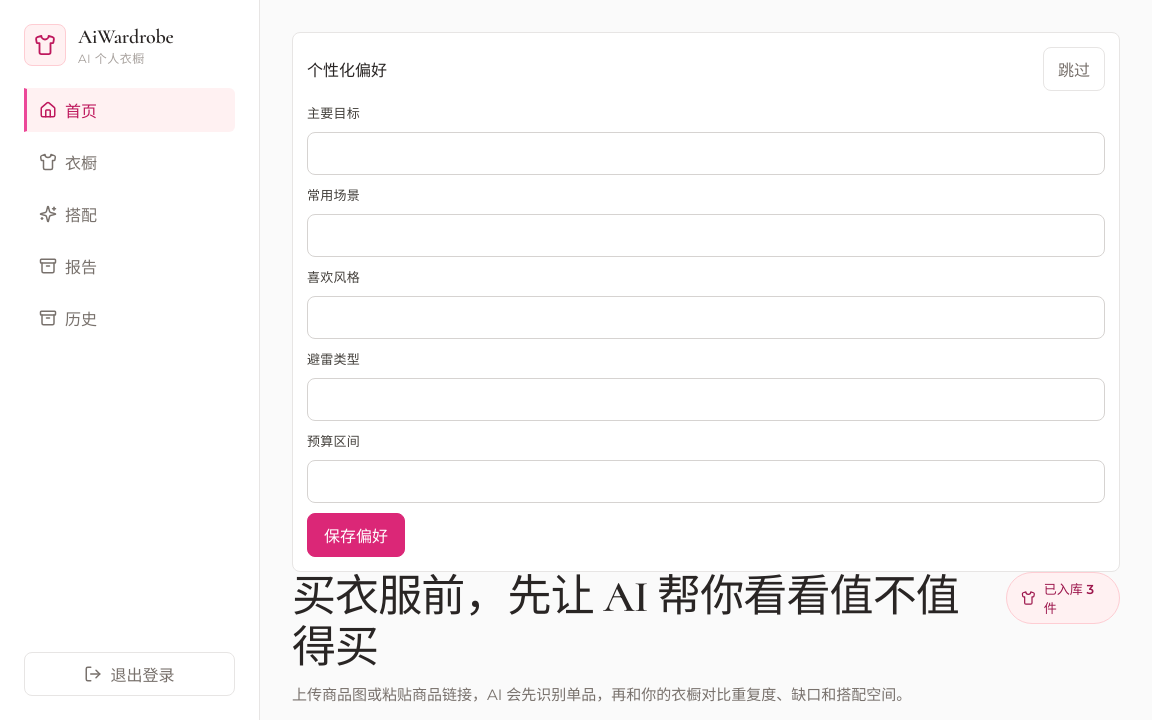
AiWardrobe app › shows a skippable preference panel after three ready garments and saves it
This screenshot has width=1152, height=720.
Expected: the text "个性化偏好" is shown, [307,57,387,81]
In the field labelled "主要目标": (706, 154) [307,132,1105,175], type "少买闲置"
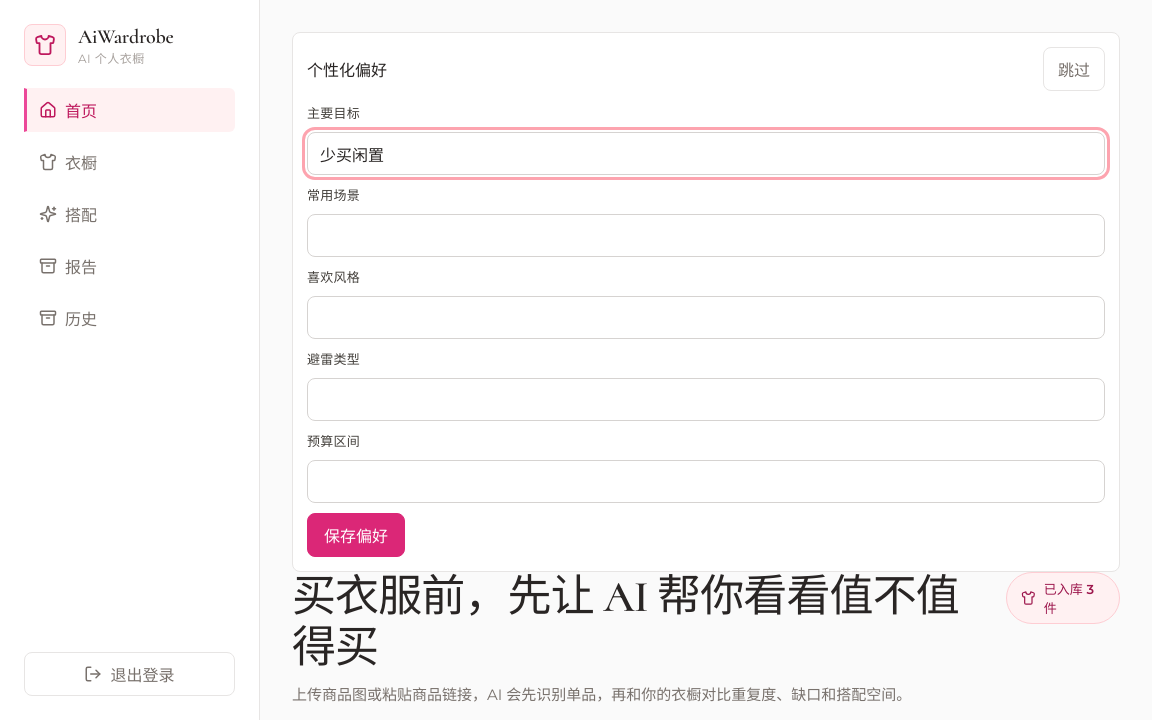
In the field labelled "常用场景": (706, 236) [307,214,1105,257], type "通勤"
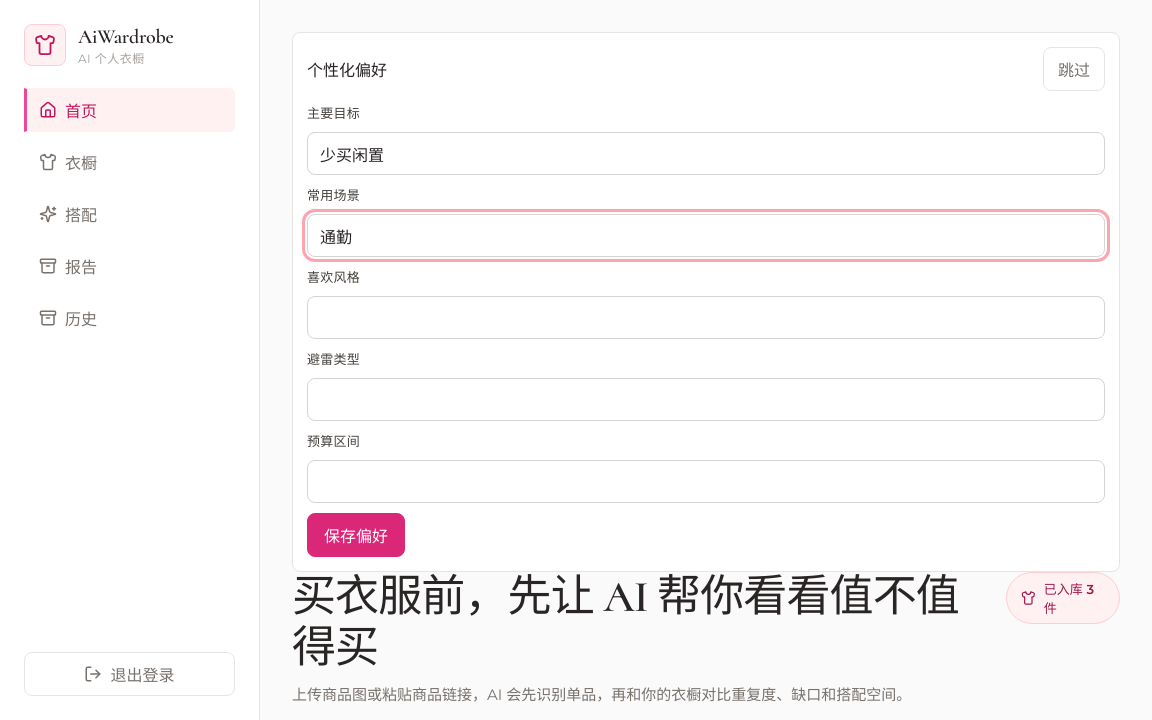
In the field labelled "喜欢风格": (706, 318) [307,296,1105,339], type "简约"
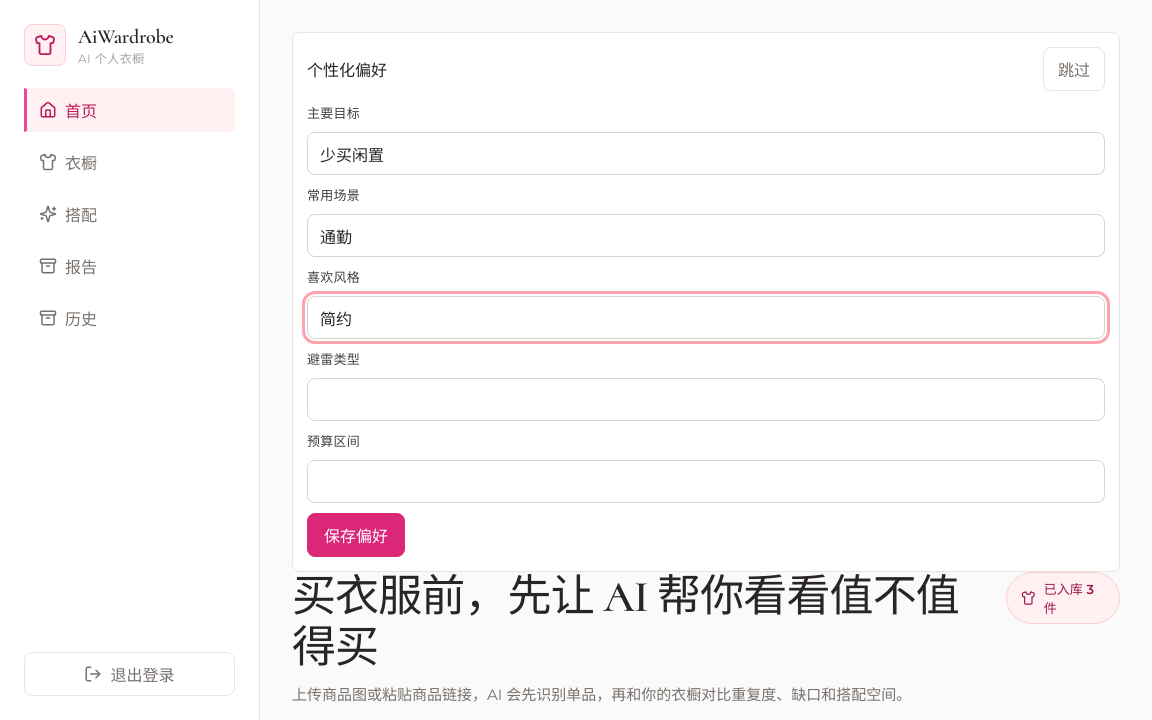
In the field labelled "避雷类型": (706, 400) [307,378,1105,421], type "低质感针织"
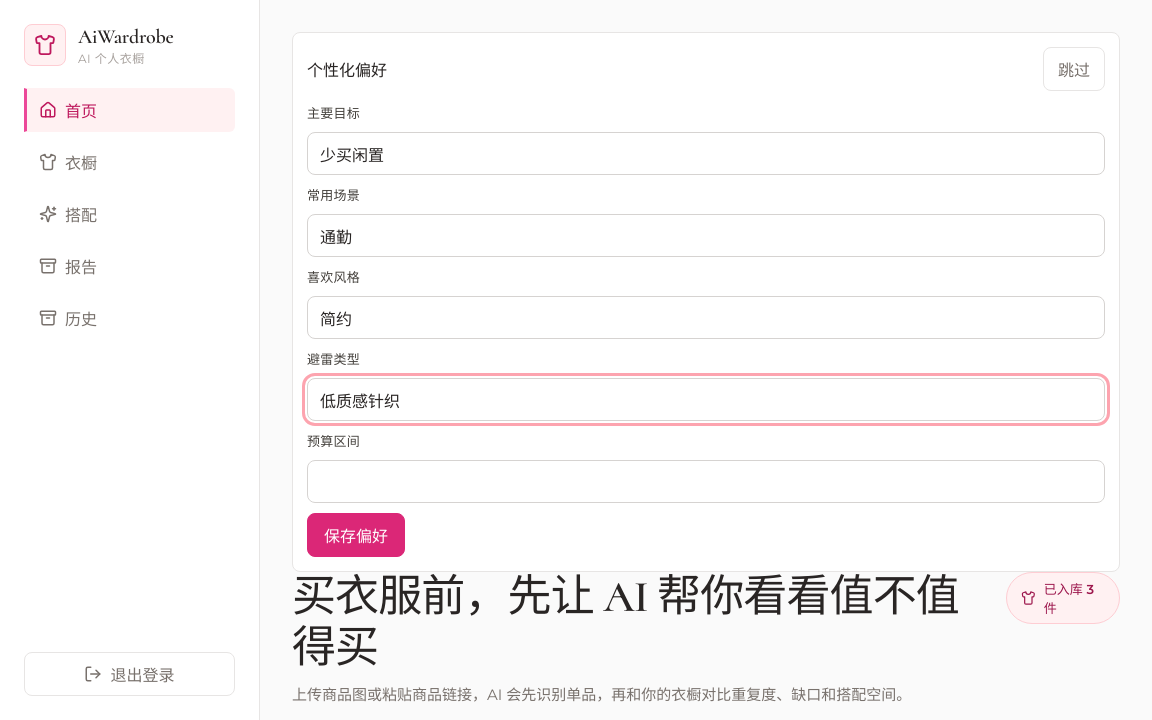
In the field labelled "预算区间": (706, 482) [307,460,1105,503], type "100-300"
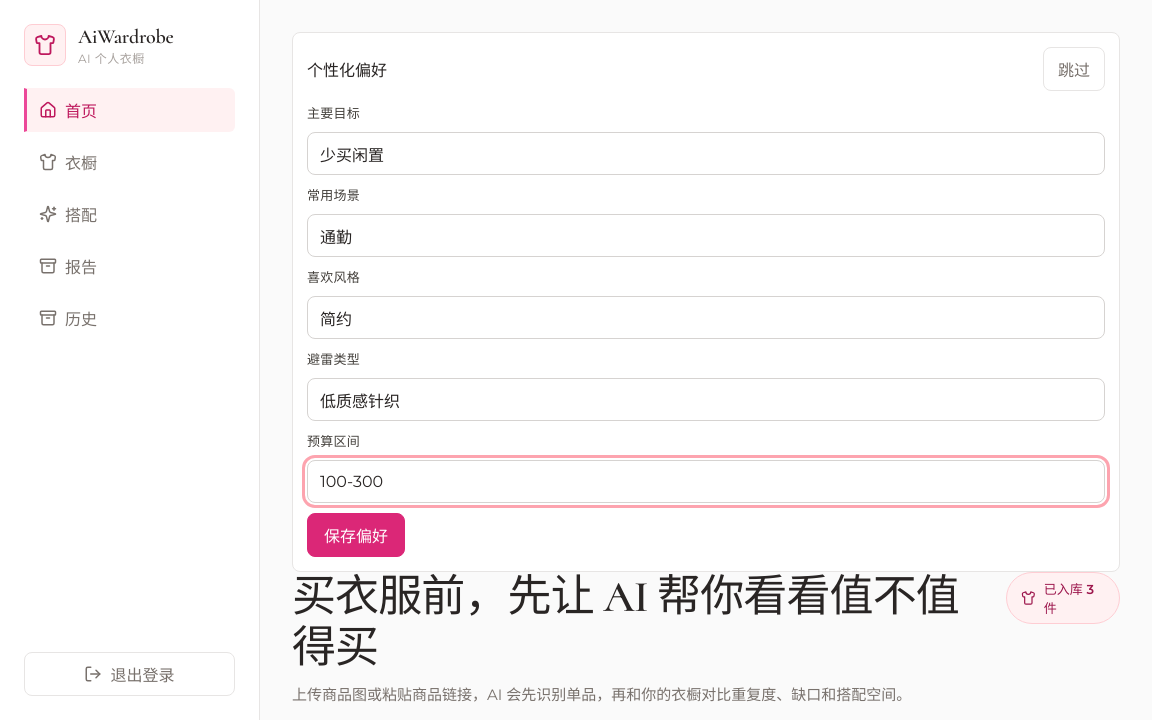
Click the button "保存偏好": (356, 535) [307,513,405,557]
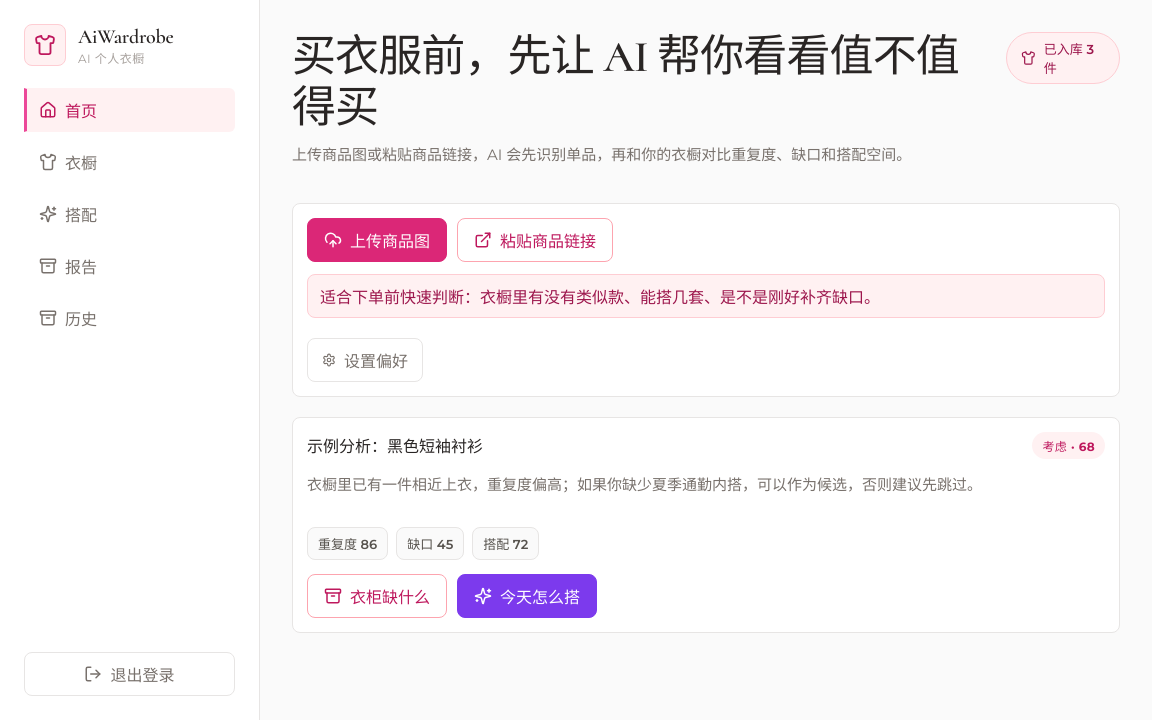
Expected: the text "个性化偏好" is gone
